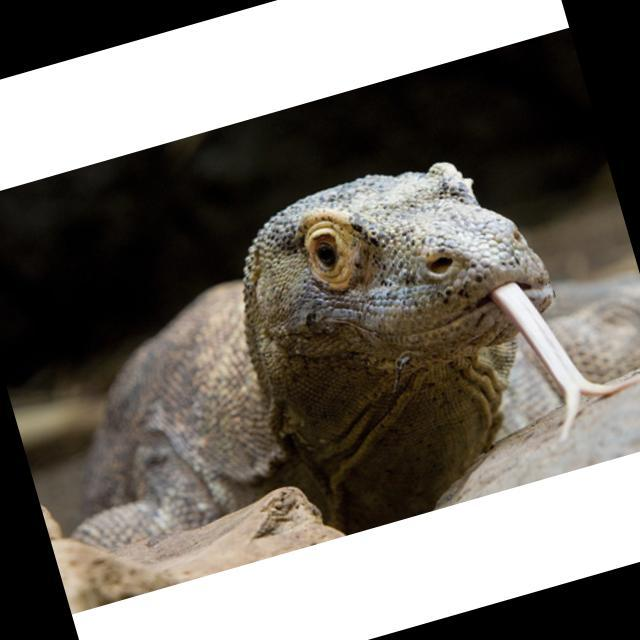KomodoDragon: (0, 107, 640, 595)
